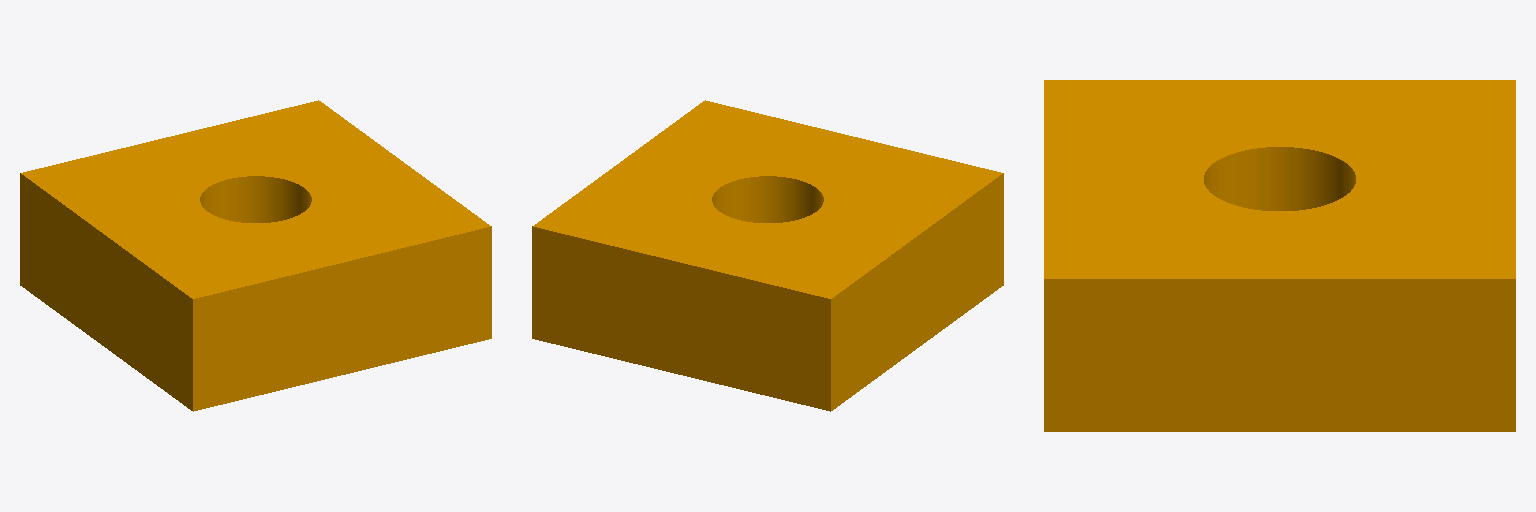
URDF robot description (factory_round_hole_8mm):
<?xml version="1.0"?>
<robot name="factory_round_hole_8mm">
    <link name="factory_round_hole_8mm">
        <visual>
            <geometry>
                <mesh filename="../mesh/factory_insertion/factory_round_hole_8mm_subdiv_3x.obj"/>
            </geometry>
        </visual>
        <collision>
            <geometry>
                <mesh filename="../mesh/factory_insertion/factory_round_hole_8mm_subdiv_3x.obj"/>
            </geometry>
            <sdf resolution="256"/>
        </collision>
    </link>
</robot>

--- What the picture shows (computed from the rendered views, not written in the file) ---
3 views of the same robot in one strip: view 1: azimuth 30°, elevation 25°; view 2: azimuth 150°, elevation 25°; view 3: azimuth 270°, elevation 25° (orthographic).
Robot: factory_round_hole_8mm — 1 links, 0 joints (none); root link factory_round_hole_8mm; default pose: every joint at zero.
Links seen in each view (by area): view 1: factory_round_hole_8mm; view 2: factory_round_hole_8mm; view 3: factory_round_hole_8mm.
Boxes of the visible links, left/top/right/bottom form: factory_round_hole_8mm: left=20, top=100, right=491, bottom=411; factory_round_hole_8mm: left=532, top=100, right=1003, bottom=411; factory_round_hole_8mm: left=1044, top=80, right=1515, bottom=431.
Size in the robot's own frame: 0.025 by 0.025 by 0.009 metres.
1 mesh visuals loaded from 1 distinct referenced files (1 OBJ).
